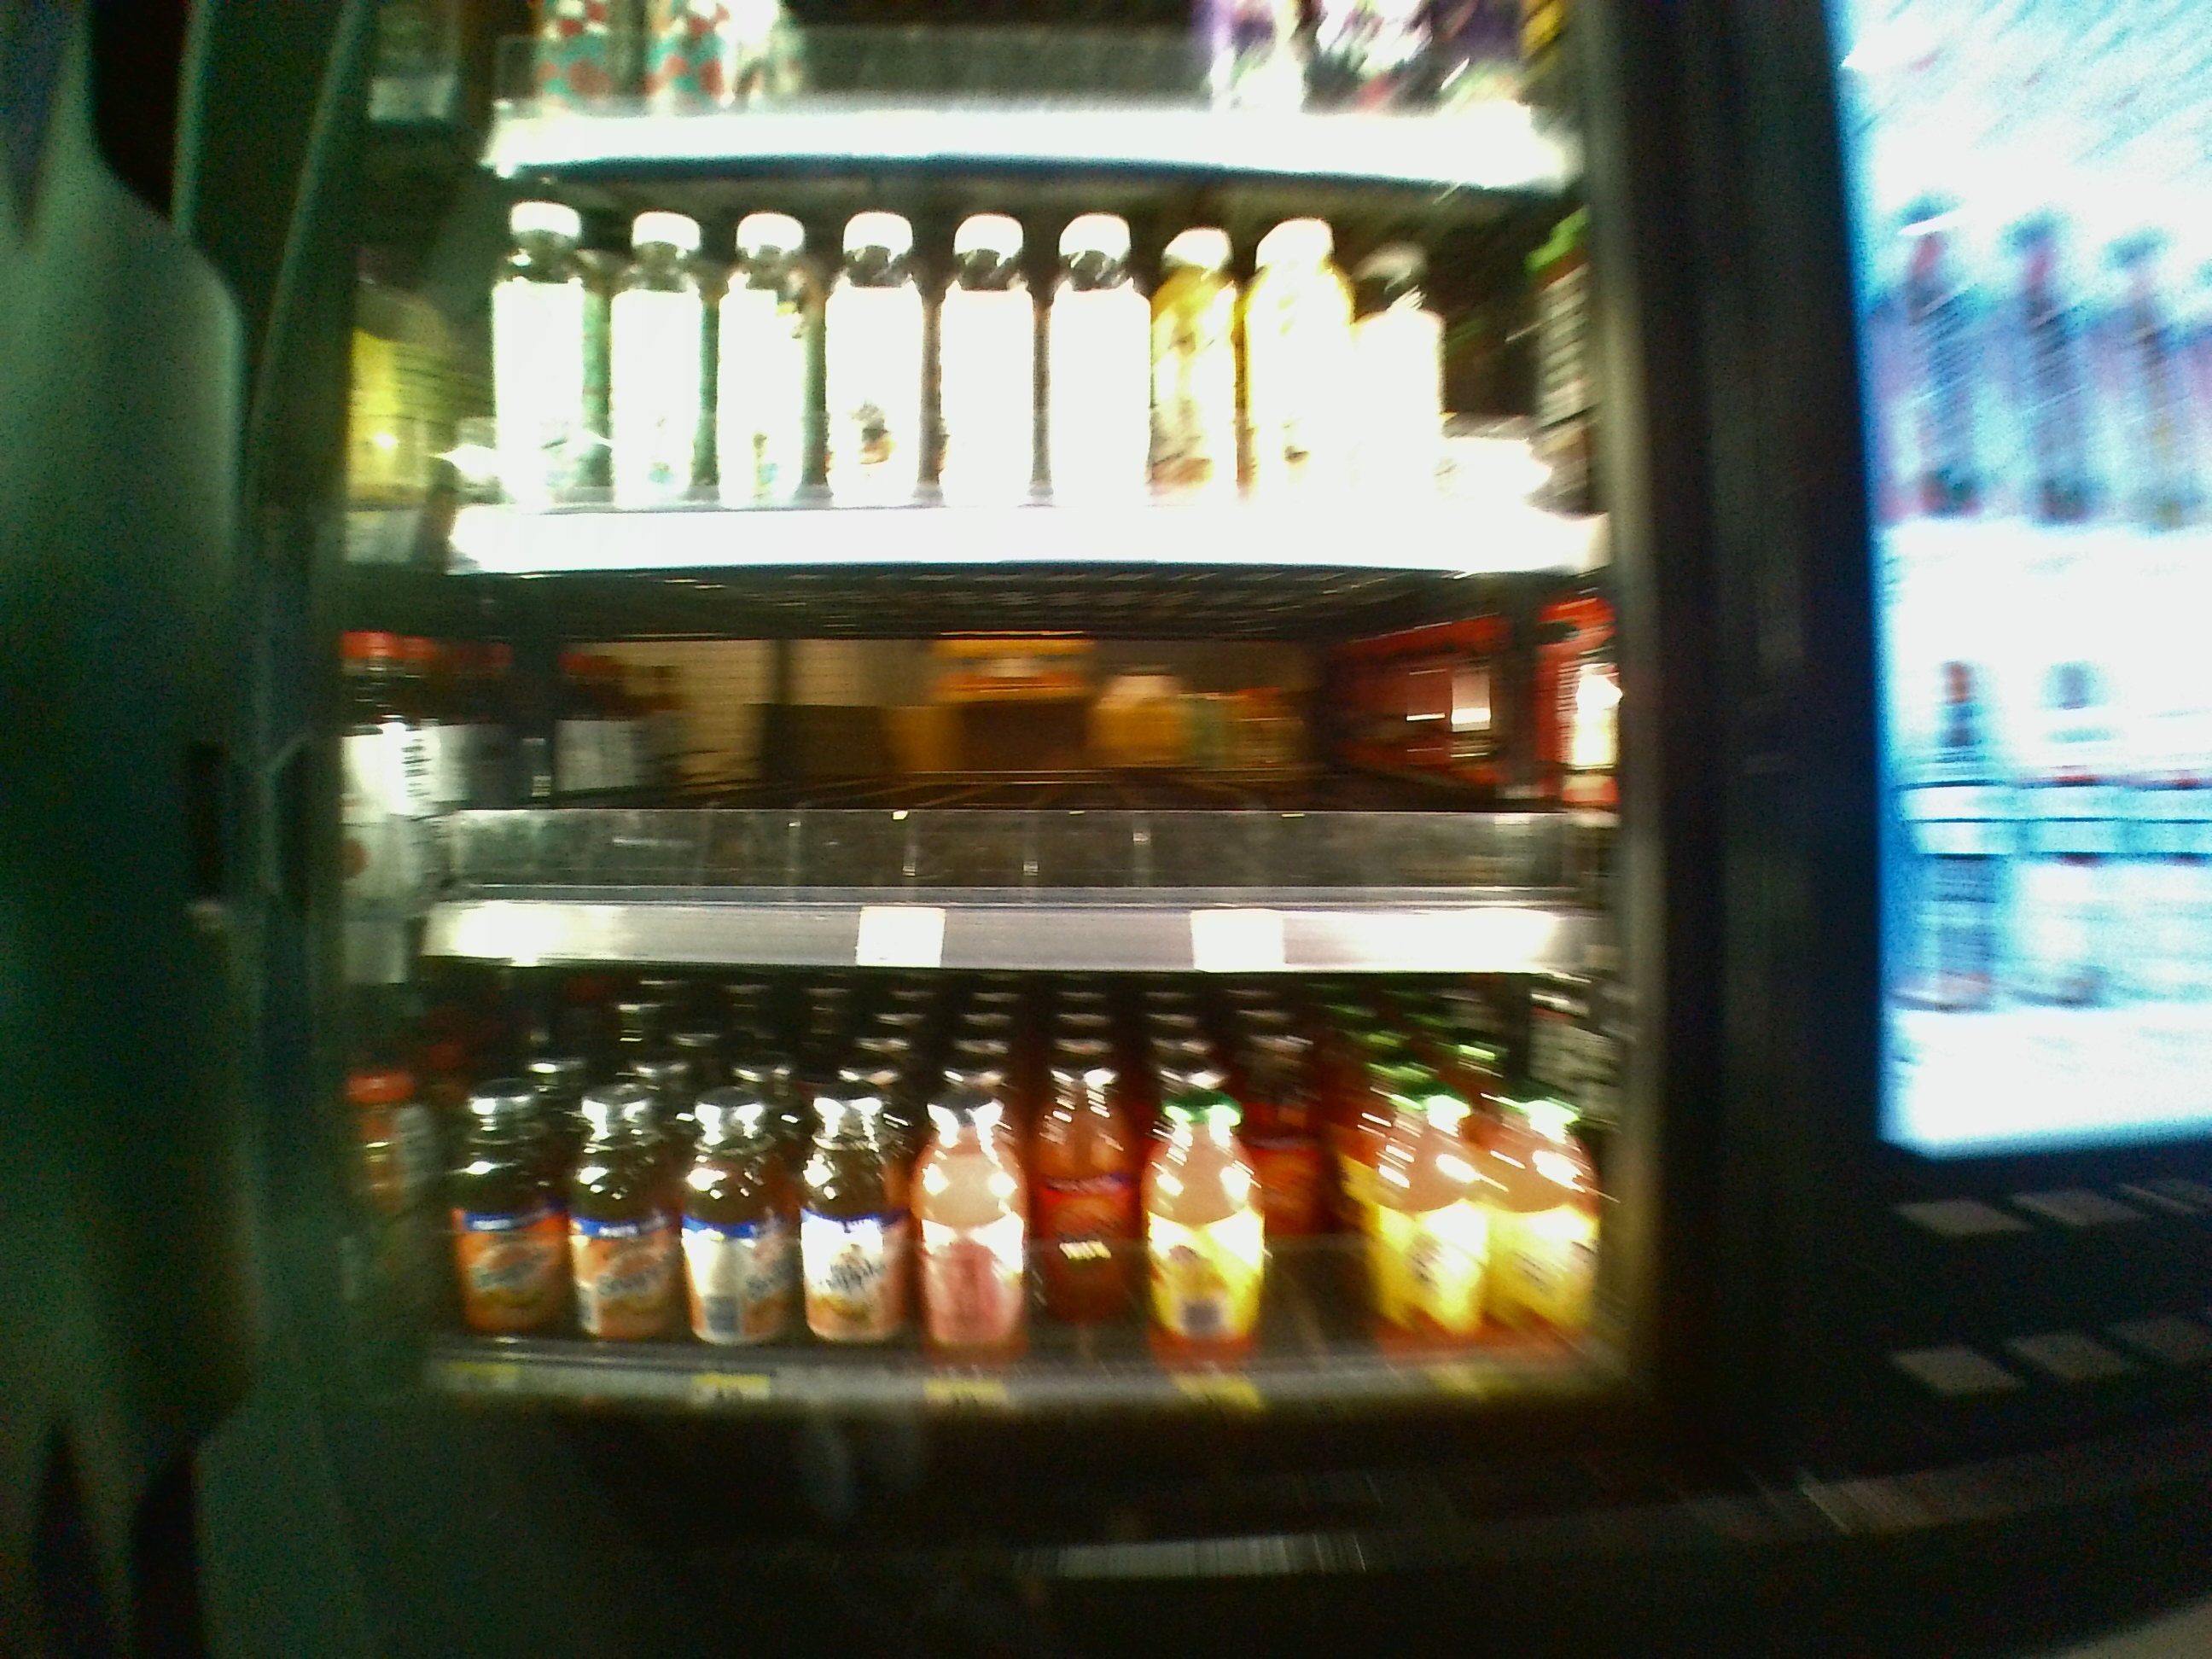shelf: (411, 990, 1615, 1429), (411, 164, 1601, 572), (416, 579, 1609, 978)
